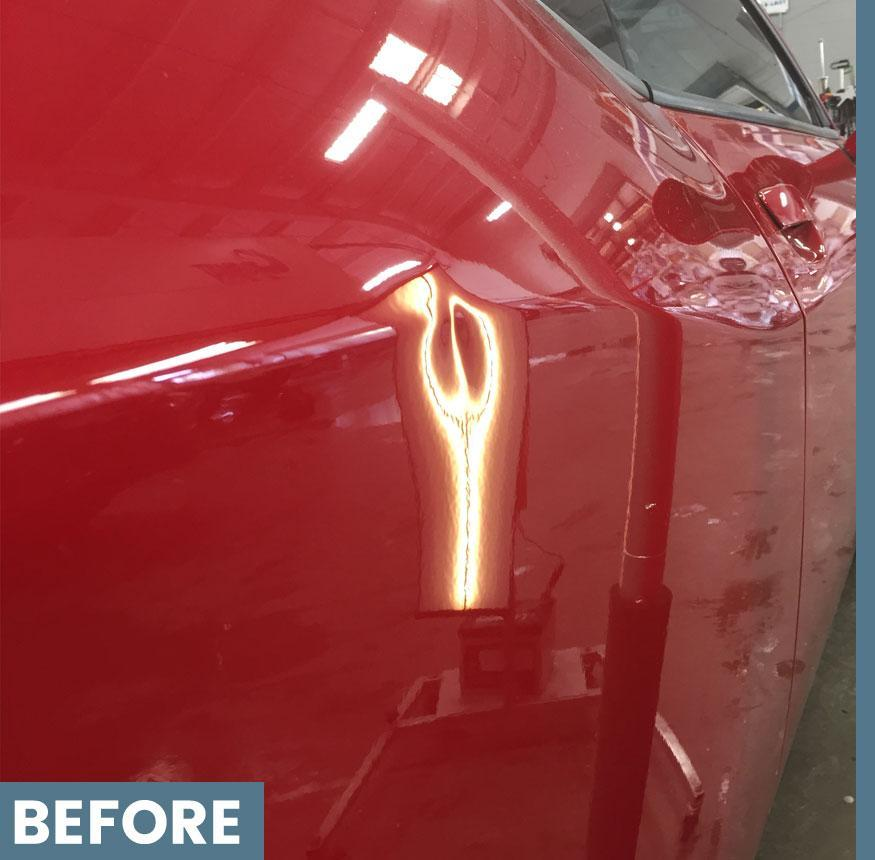dent: (340, 268, 542, 435)
